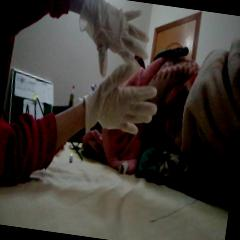gloved: (71, 0, 156, 81), (82, 61, 162, 136)
